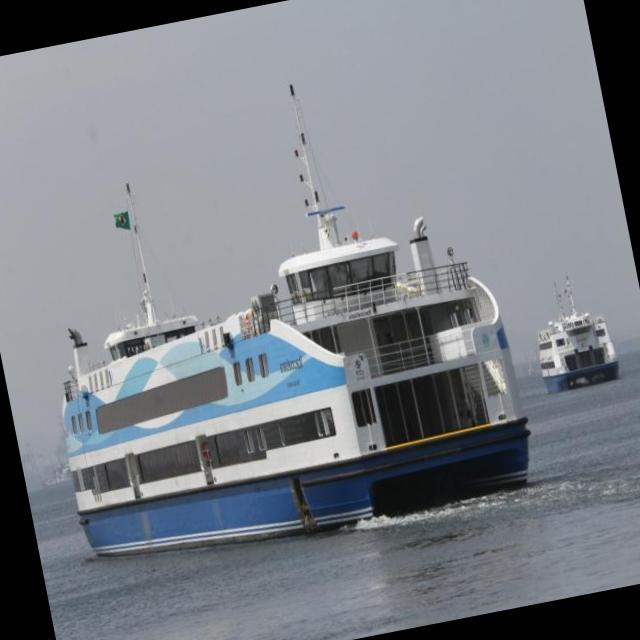Passenger: (63, 84, 530, 554), (539, 289, 619, 391)
